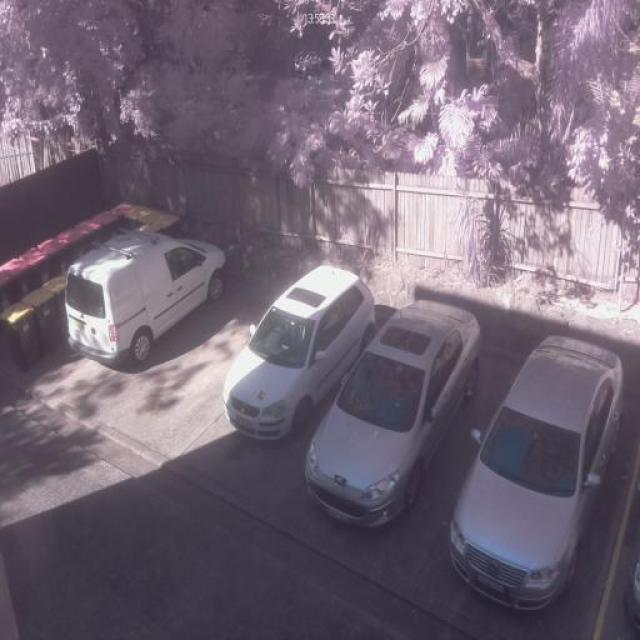Legalparking: (37, 173, 640, 631)
